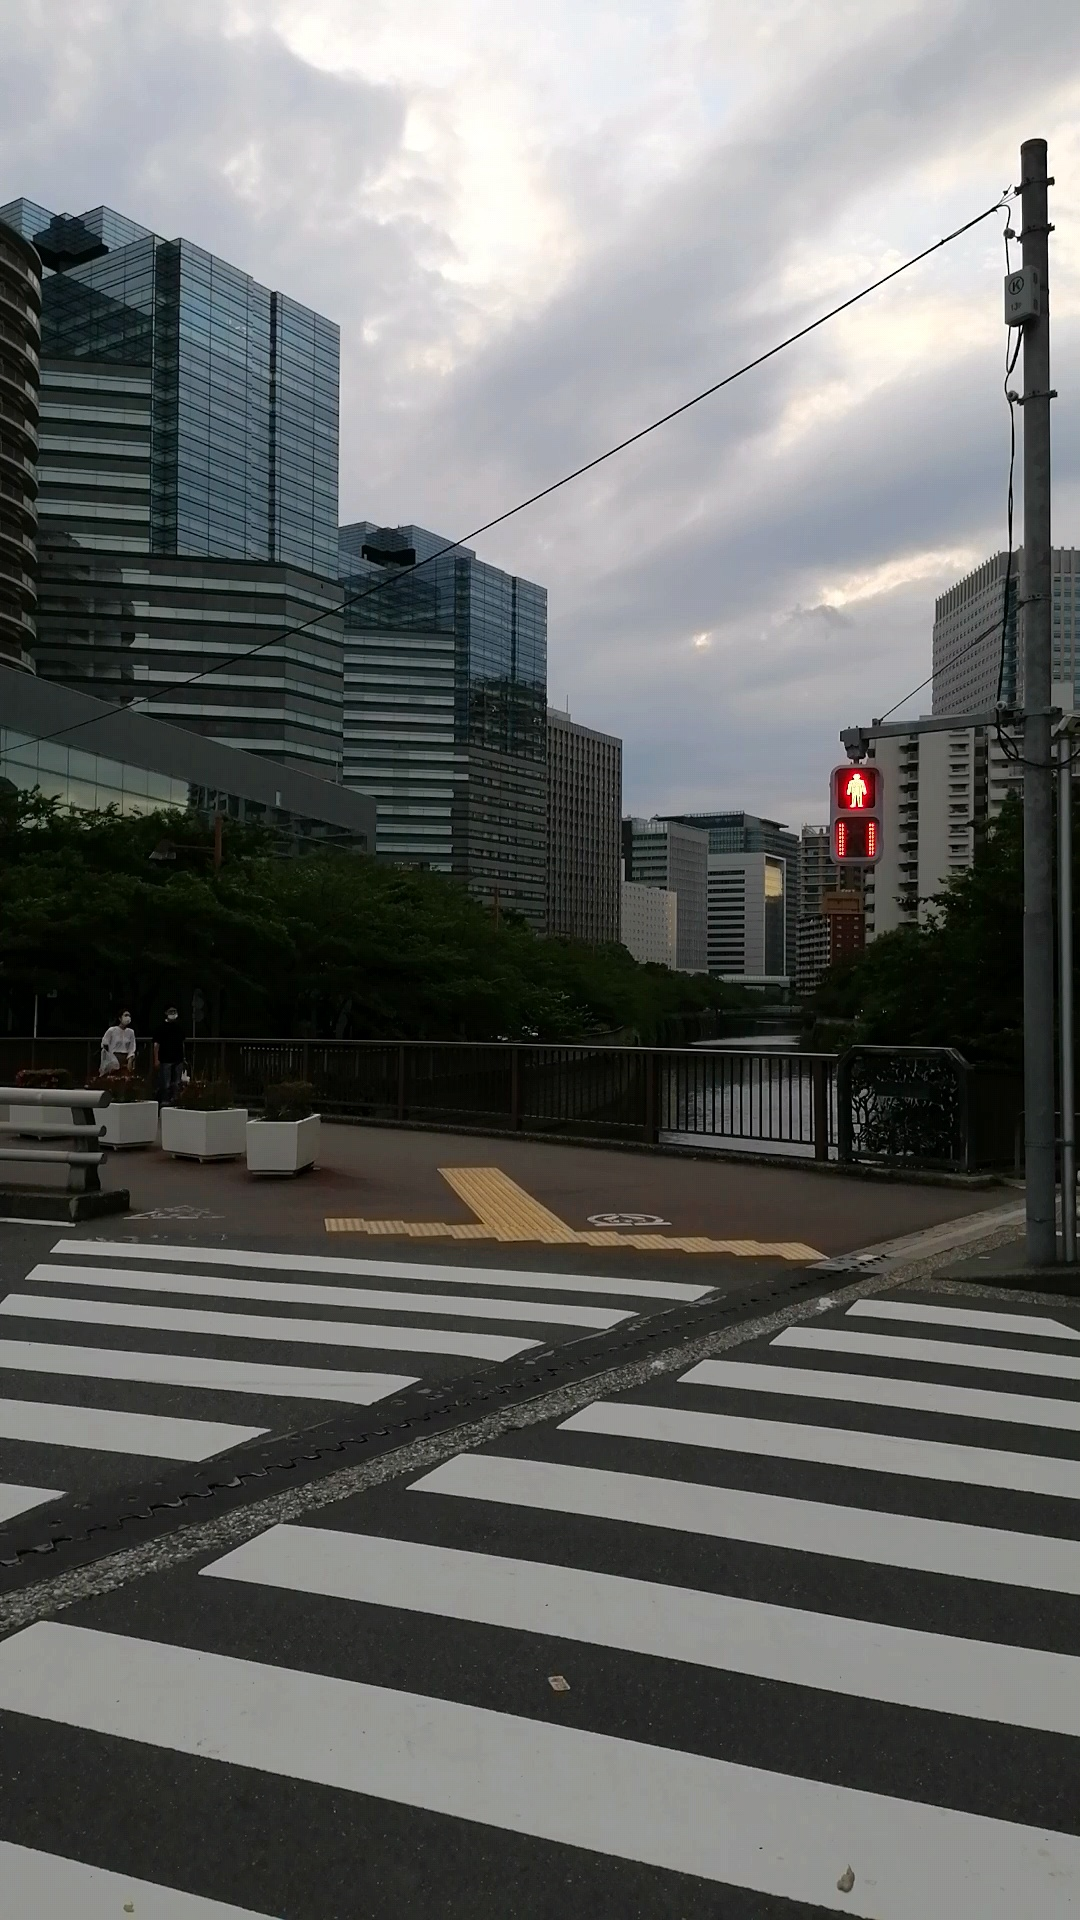red: (829, 765, 886, 866)
